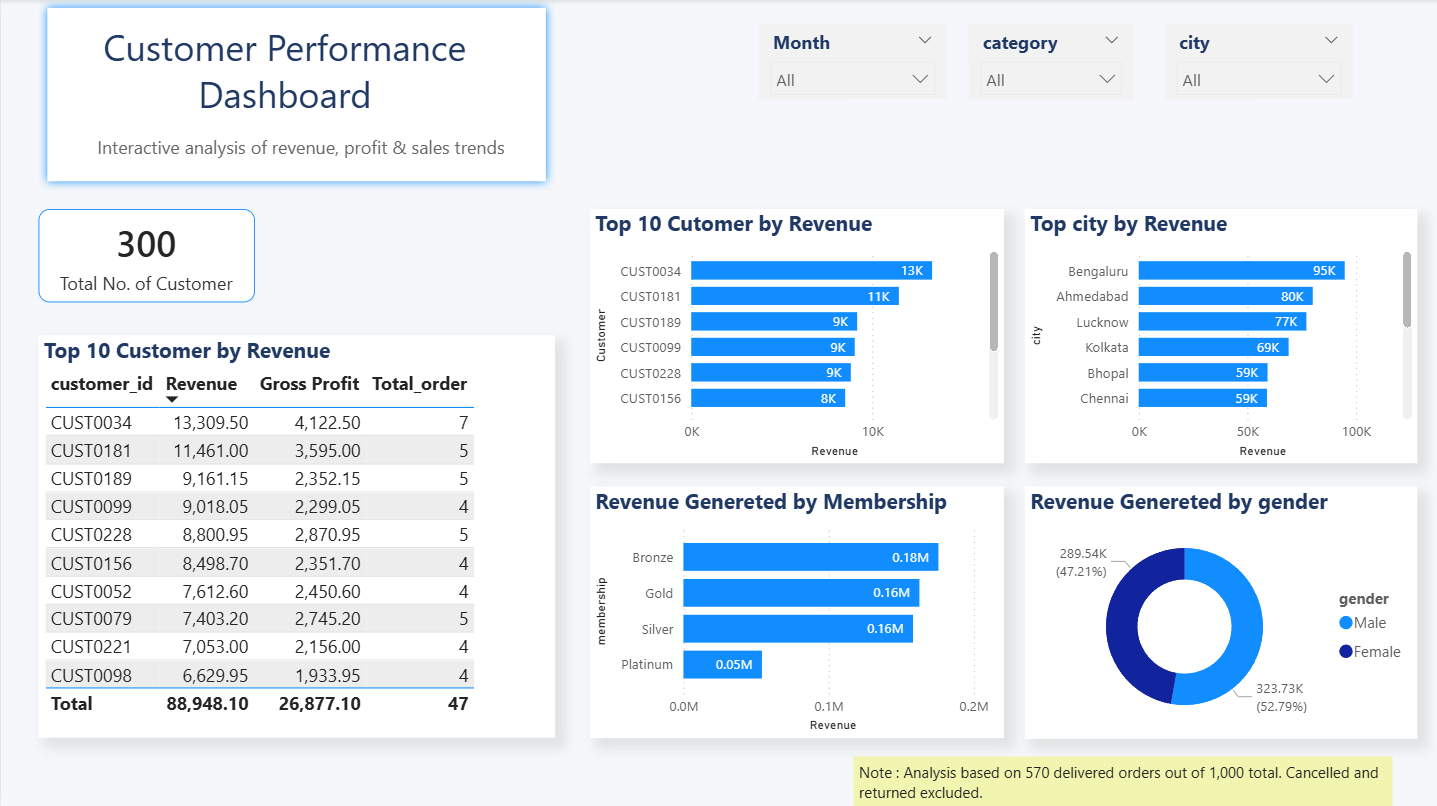

What the dashboard file says about the page in this screenshot:
{"tool":"powerbi","page":{"name":"customer analysis","canvas":[1280,720],"ordinal":2},"visuals":[{"type":"slicer","fields":{"Values":["DateTable.Month"]},"box":[675.1,22,167.4,67.2],"z":0},{"type":"slicer","fields":{"Values":["sales_analytics products_clean.category"]},"box":[861.8,22,146.8,67.2],"z":1000},{"type":"slicer","fields":{"Values":["sales_analytics customer_clean.city"]},"box":[1036,22,167.4,67.2],"z":2000},{"type":"card","fields":{"Values":["_Measures.Total_customer"]},"box":[33.3,187,192.6,83.3],"z":3000},{"type":"clusteredBarChart","title":"Top 10 Cutomer by Revenue","fields":{"Category":["sales_analytics orders_clean.customer_id"],"Y":["_Measures.Total_revenue"]},"box":[524.2,186.6,369.1,226.4],"z":4000},{"type":"clusteredBarChart","title":"Top city by Revenue","fields":{"Y":["_Measures.Total_revenue"],"Category":["sales_analytics customer_clean.city"]},"box":[911.2,186.6,349.9,226.4],"z":5000},{"type":"donutChart","title":"Revenue Genereted by gender","fields":{"Y":["_Measures.Total_revenue"],"Category":["sales_analytics customer_clean.gender"]},"box":[911.2,433.6,349.9,225],"z":6000},{"type":"clusteredBarChart","title":"Revenue Genereted by Membership","fields":{"Y":["_Measures.Total_revenue"],"Category":["sales_analytics customer_clean.membership"]},"box":[524.2,433.6,369.1,223.7],"z":7000},{"type":"tableEx","title":"Top 10 Customer by Revenue","fields":{"Values":["sales_analytics customer_clean.customer_id","_Measures.Total_revenue","_Measures.Total_gross_profit","_Measures.Total_order"]},"box":[32.9,299.1,459.7,358.1],"z":8000},{"type":"shape","box":[32.9,0,459.7,170.2],"z":9000},{"type":"textbox","box":[75.5,15.1,354,100.2],"z":10000},{"type":"textbox","box":[75.5,115.3,382.8,39.8],"z":11000},{"type":"textbox","box":[759.3,674.1,479.6,46.3],"z":12000}]}

Visuals, with their boxes in screenshot pixels (x1, y1, x2, y2), scaled from the page's 1280x720 canvas onto the 1437x806 screenshot:
slicer - DateTable.Month: (x1=758, y1=25, x2=946, y2=100)
slicer - sales_analytics products_clean.category: (x1=968, y1=25, x2=1132, y2=100)
slicer - sales_analytics customer_clean.city: (x1=1163, y1=25, x2=1351, y2=100)
card - _Measures.Total_customer: (x1=37, y1=209, x2=254, y2=303)
"Top 10 Cutomer by Revenue" clusteredBarChart: (x1=588, y1=209, x2=1003, y2=462)
"Top city by Revenue" clusteredBarChart: (x1=1023, y1=209, x2=1416, y2=462)
"Revenue Genereted by gender" donutChart: (x1=1023, y1=485, x2=1416, y2=737)
"Revenue Genereted by Membership" clusteredBarChart: (x1=588, y1=485, x2=1003, y2=736)
"Top 10 Customer by Revenue" tableEx: (x1=37, y1=335, x2=553, y2=736)
shape: (x1=37, y1=0, x2=553, y2=191)
textbox: (x1=85, y1=17, x2=482, y2=129)
textbox: (x1=85, y1=129, x2=515, y2=174)
textbox: (x1=852, y1=755, x2=1391, y2=805)
